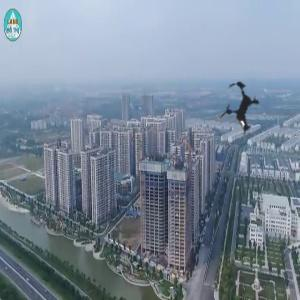drone: (196, 65, 285, 154)
